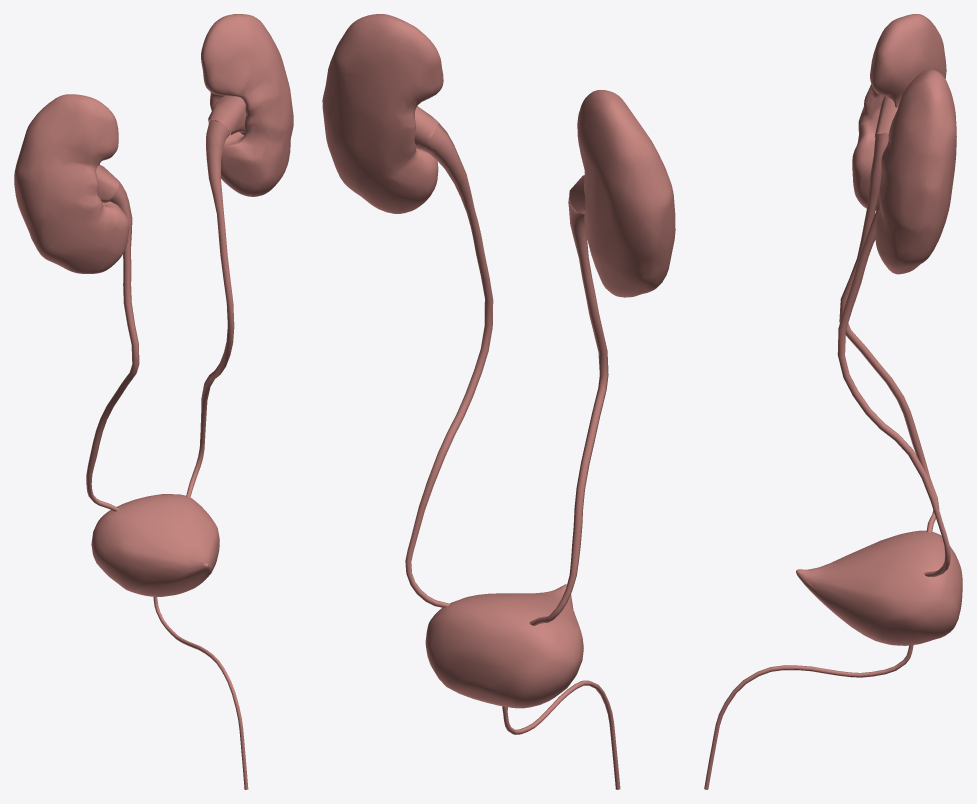
The model's file is urinary.glb.
3 views of the same model, side by side, from view 1: azimuth 30°, elevation 25°; view 2: azimuth 150°, elevation 25°; view 3: azimuth 270°, elevation 25° (orthographic). The views are drawn at different scales.
Parts seen in each view (by area): view 1: URI.kidney.R, URI.kidney.L, URI.urinary_bladder.C, URI.ureter.L, URI.ureter.R, URI.renal_pelvis.L, URI.urethra.C, URI.renal_pelvis.R; view 2: URI.kidney.L, URI.kidney.R, URI.urinary_bladder.C, URI.ureter.L, URI.ureter.R, URI.urethra.C, URI.renal_pelvis.L; view 3: URI.urinary_bladder.C, URI.kidney.L, URI.kidney.R, URI.ureter.L, URI.ureter.R, URI.urethra.C, URI.renal_pelvis.R.
Part boxes in pixels (x1=…): URI.kidney.R: x1=14, y1=94, x2=129, y2=273; URI.kidney.L: x1=201, y1=14, x2=293, y2=196; URI.urinary_bladder.C: x1=91, y1=494, x2=219, y2=596; URI.ureter.L: x1=186, y1=119, x2=234, y2=497; URI.ureter.R: x1=86, y1=181, x2=139, y2=511; URI.renal_pelvis.L: x1=208, y1=96, x2=246, y2=135; URI.urethra.C: x1=153, y1=597, x2=248, y2=789; URI.renal_pelvis.R: x1=96, y1=165, x2=119, y2=202; URI.kidney.L: x1=322, y1=14, x2=443, y2=213; URI.kidney.R: x1=577, y1=90, x2=675, y2=297; URI.urinary_bladder.C: x1=425, y1=584, x2=583, y2=708; URI.ureter.L: x1=405, y1=122, x2=493, y2=607; URI.ureter.R: x1=529, y1=197, x2=608, y2=625; URI.urethra.C: x1=502, y1=680, x2=620, y2=789; URI.renal_pelvis.L: x1=414, y1=106, x2=438, y2=149; URI.urinary_bladder.C: x1=796, y1=530, x2=962, y2=645; URI.kidney.L: x1=875, y1=69, x2=956, y2=274; URI.kidney.R: x1=852, y1=14, x2=946, y2=210; URI.ureter.L: x1=837, y1=203, x2=950, y2=576; URI.ureter.R: x1=839, y1=133, x2=939, y2=532; URI.urethra.C: x1=704, y1=645, x2=913, y2=789; URI.renal_pelvis.R: x1=874, y1=96, x2=898, y2=137.
Size of the model in its own units: 0.178 by 0.4203 by 0.1291.
